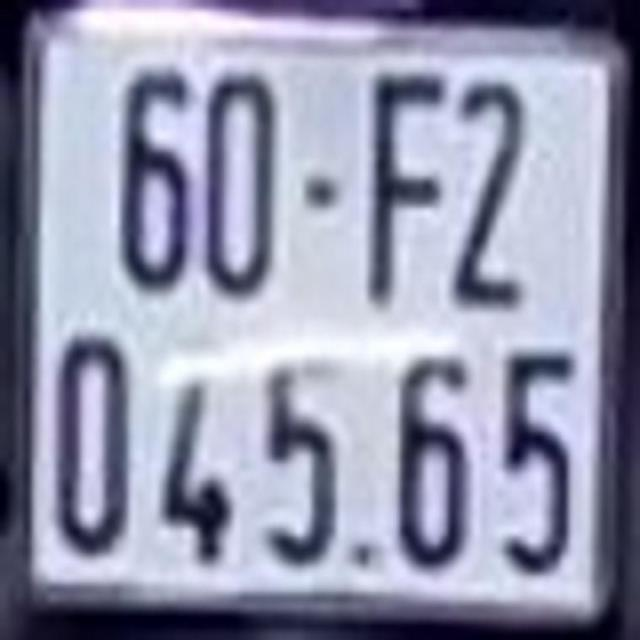0: (44, 314, 134, 554), (200, 55, 288, 292)
2: (455, 65, 533, 320)
4: (149, 335, 254, 564)
5: (494, 321, 590, 577), (253, 338, 342, 569)
6: (385, 327, 478, 563), (112, 55, 195, 292)
F: (357, 56, 442, 310)
